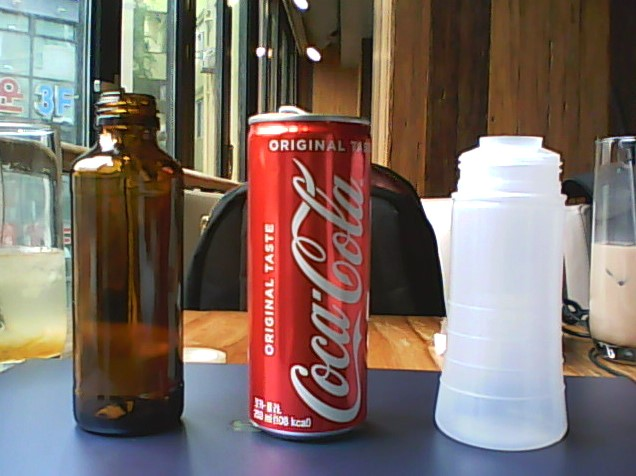Can: (239, 98, 378, 447)
Glass: (65, 86, 189, 442)
Plastic: (429, 127, 576, 455)
